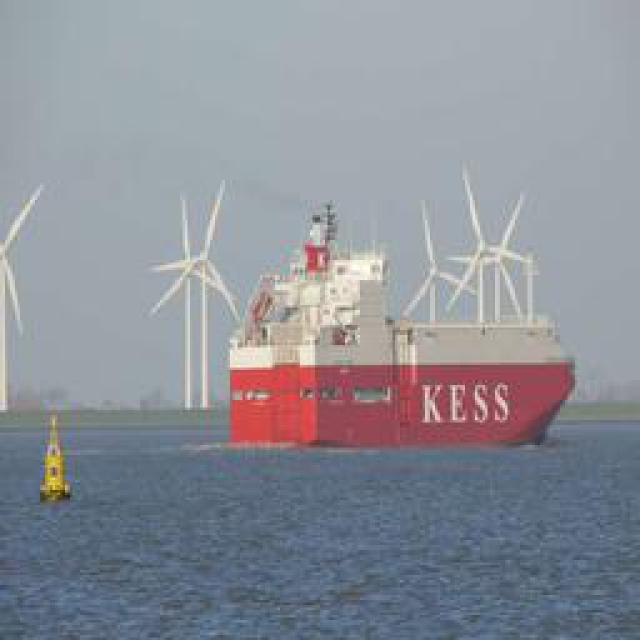Ship: (220, 172, 573, 455)
